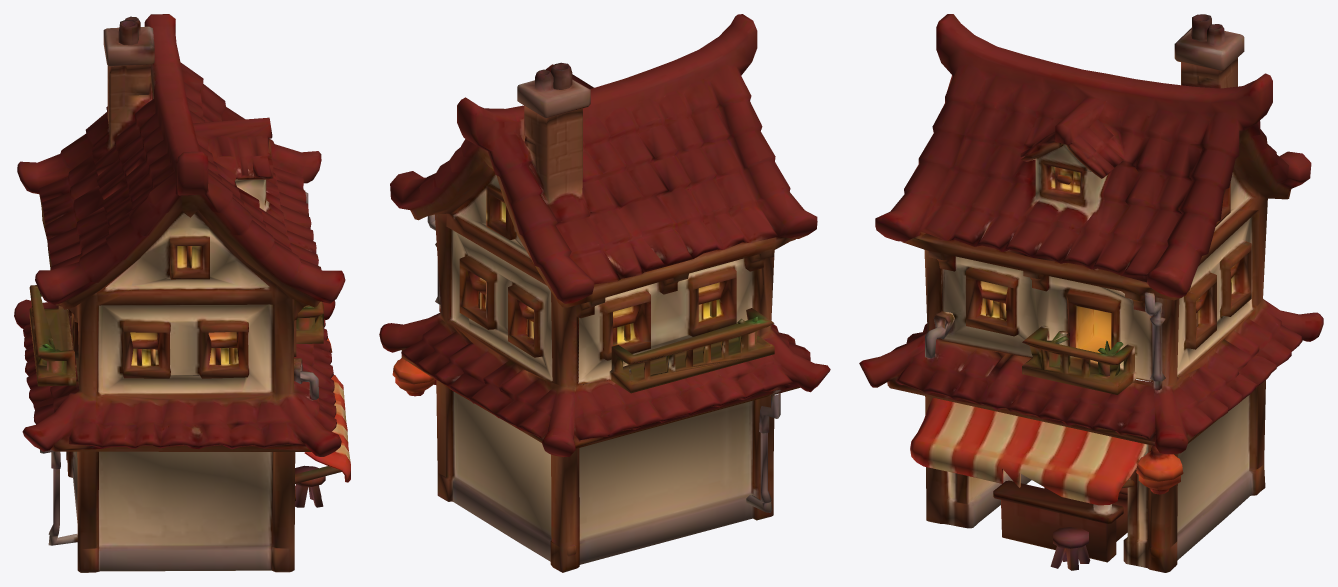
The model's file is bld_noodle.glb.
3 views of the same model, side by side, from view 1: azimuth 30°, elevation 25°; view 2: azimuth 150°, elevation 25°; view 3: azimuth 270°, elevation 25° (orthographic). The views are drawn at different scales.
Visible parts, largest first — view 1: tripo_node_d2f98f30-ecf4-4e88-9cde-547a5fea26ad; view 2: tripo_node_d2f98f30-ecf4-4e88-9cde-547a5fea26ad; view 3: tripo_node_d2f98f30-ecf4-4e88-9cde-547a5fea26ad.
Boxes of the visible parts, x1,y1,x2,y2 form: tripo_node_d2f98f30-ecf4-4e88-9cde-547a5fea26ad: (14,14,350,572); tripo_node_d2f98f30-ecf4-4e88-9cde-547a5fea26ad: (379,14,830,572); tripo_node_d2f98f30-ecf4-4e88-9cde-547a5fea26ad: (859,14,1323,572).
Bounding box in the file's own units: 0.6941 × 0.8325 × 0.7191.
Materials: 1 (1 with a texture image).
